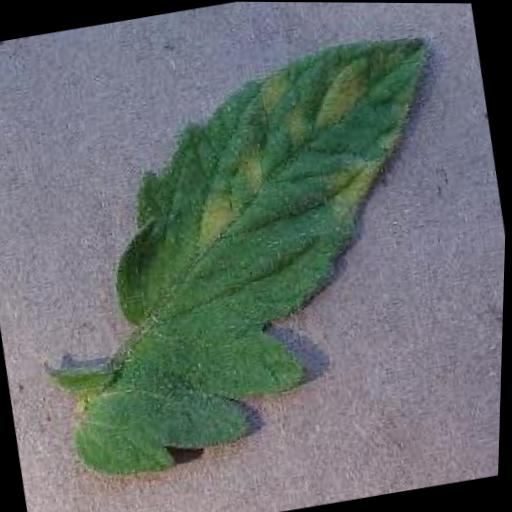Leaf Mold: (11, 25, 498, 487)
